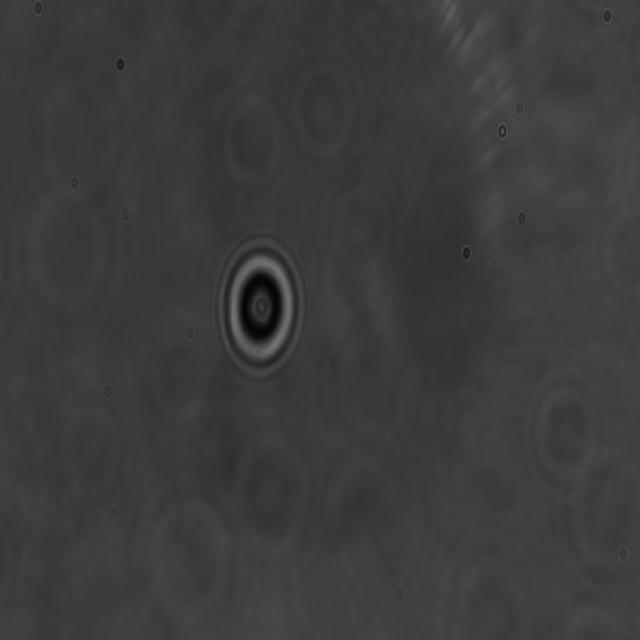LCELL: (212, 231, 306, 385)
